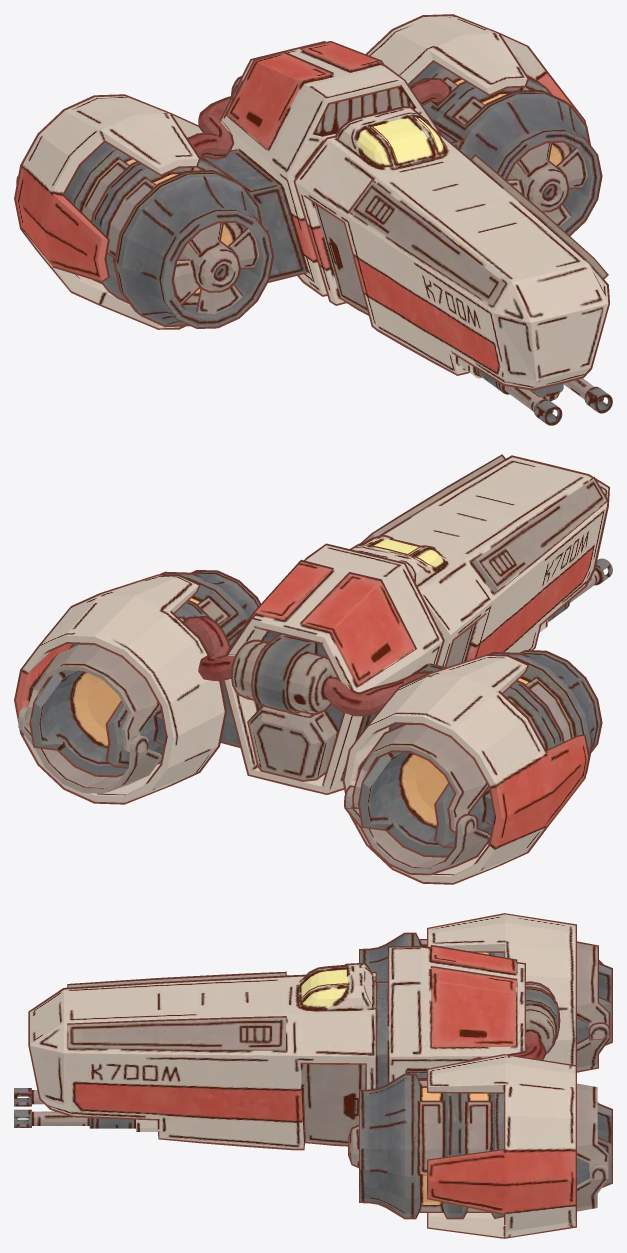
The model's file is spaceship_compressed.glb.
3 renders of one model, top to bottom at view 1: azimuth 30°, elevation 25°; view 2: azimuth 150°, elevation 25°; view 3: azimuth 270°, elevation 25°, orthographic. The views are drawn at different scales.
Visible parts, largest first — view 1: Ship, Vint001, Vint002, Gun; view 2: Ship, StopU001, StopU002, StopD001, StopD002, Gun; view 3: Ship, Gun, StopU001, StopU002, StopD001, StopD002.
Part boxes in pixels (<box>): Ship: <box>14,14,609,390</box>; Vint001: <box>173,223,259,314</box>; Vint002: <box>506,143,587,226</box>; Gun: <box>457,357,612,425</box>; Ship: <box>14,454,609,884</box>; StopU001: <box>352,724,488,832</box>; StopU002: <box>25,645,159,751</box>; StopD001: <box>344,785,490,875</box>; StopD002: <box>18,707,161,793</box>; Gun: <box>539,558,612,632</box>; Ship: <box>28,913,612,1238</box>; Gun: <box>14,1088,159,1131</box>; StopU001: <box>577,941,610,1029</box>; StopU002: <box>577,1083,608,1171</box>; StopD001: <box>577,1022,610,1072</box>; StopD002: <box>577,1164,608,1211</box>.
Size of the model in its own units: 3.17 by 1.34 by 3.66.
Materials: 2 (1 with a texture image).
